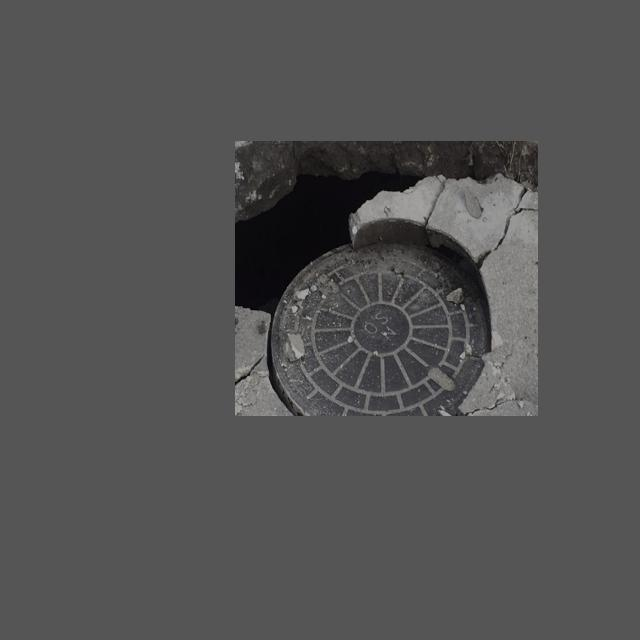circle: (239, 152, 534, 412)
